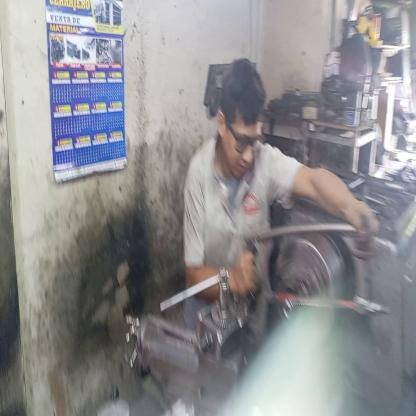lentes: (224, 114, 261, 156)
